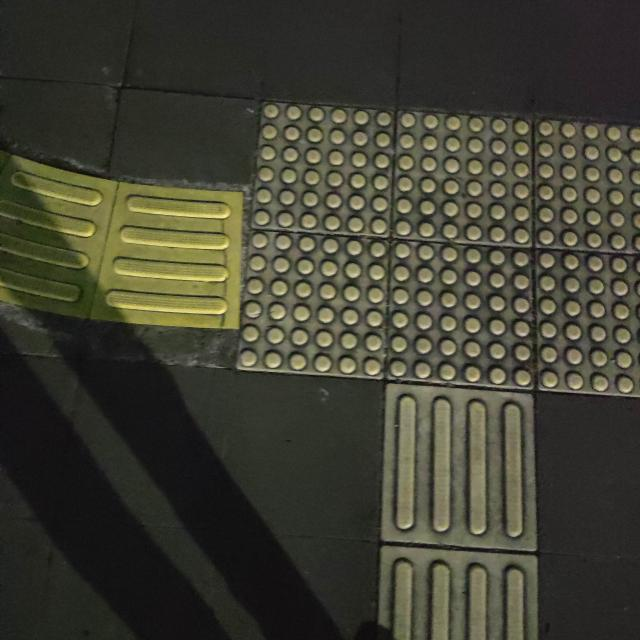kiri: (6, 109, 590, 492)
